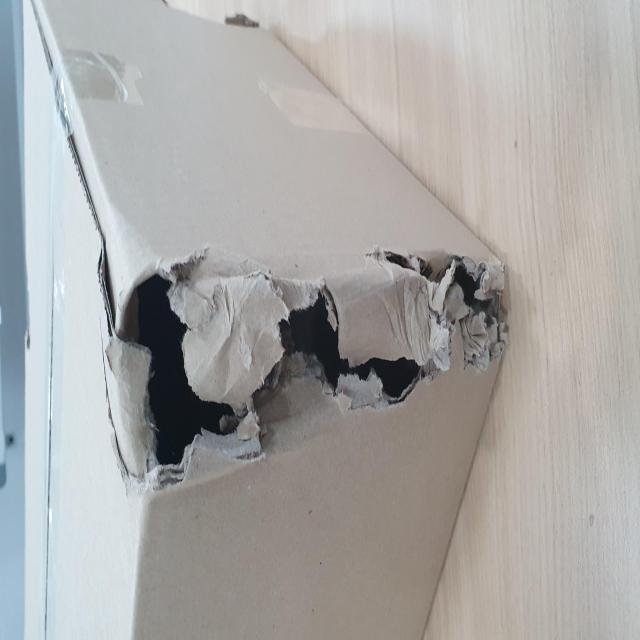damaged: (84, 202, 223, 640)
